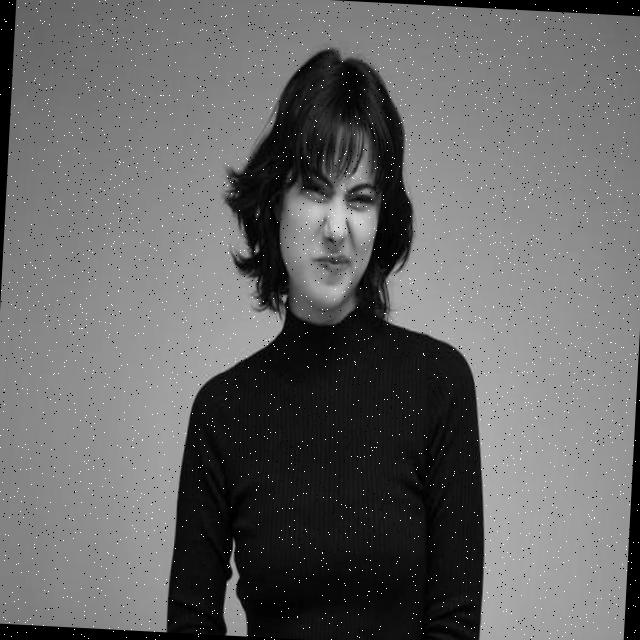Disgust: (274, 122, 382, 314)
